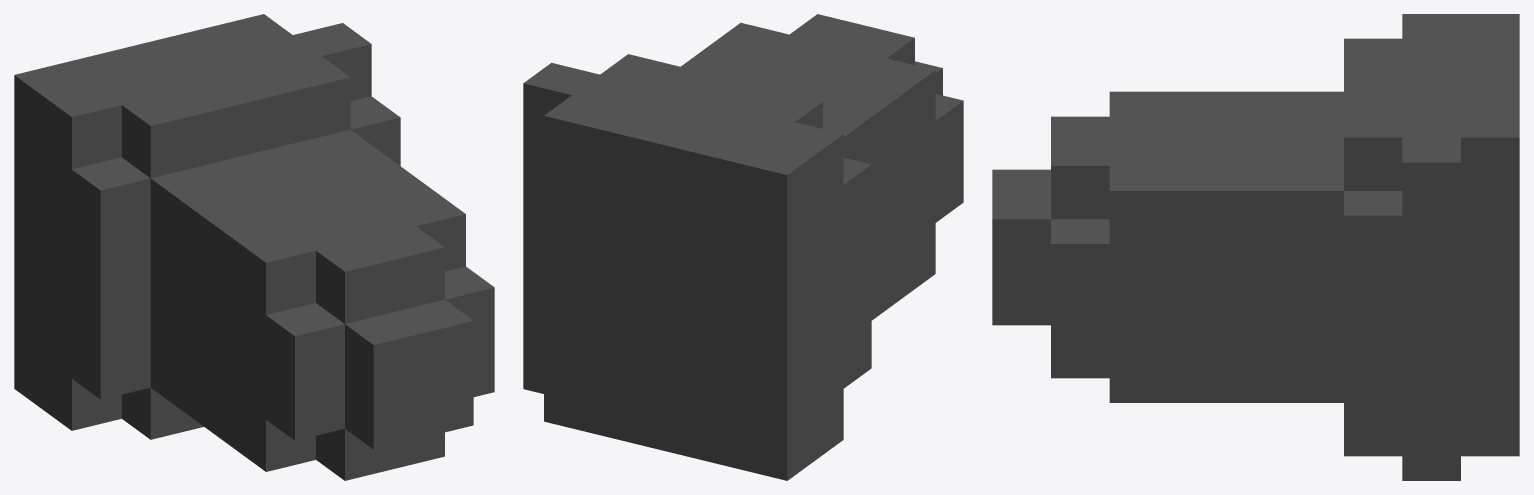
File: canon_bullet.obj
The picture shows the model from 3 angles, left to right: view 1: azimuth 30°, elevation 25°; view 2: azimuth 150°, elevation 25°; view 3: azimuth 270°, elevation 25°; orthographic projection. The views are drawn at different scales.
Size of the model in its own units: 0.6 by 0.6 by 0.9.
1 material, 1 textured.
